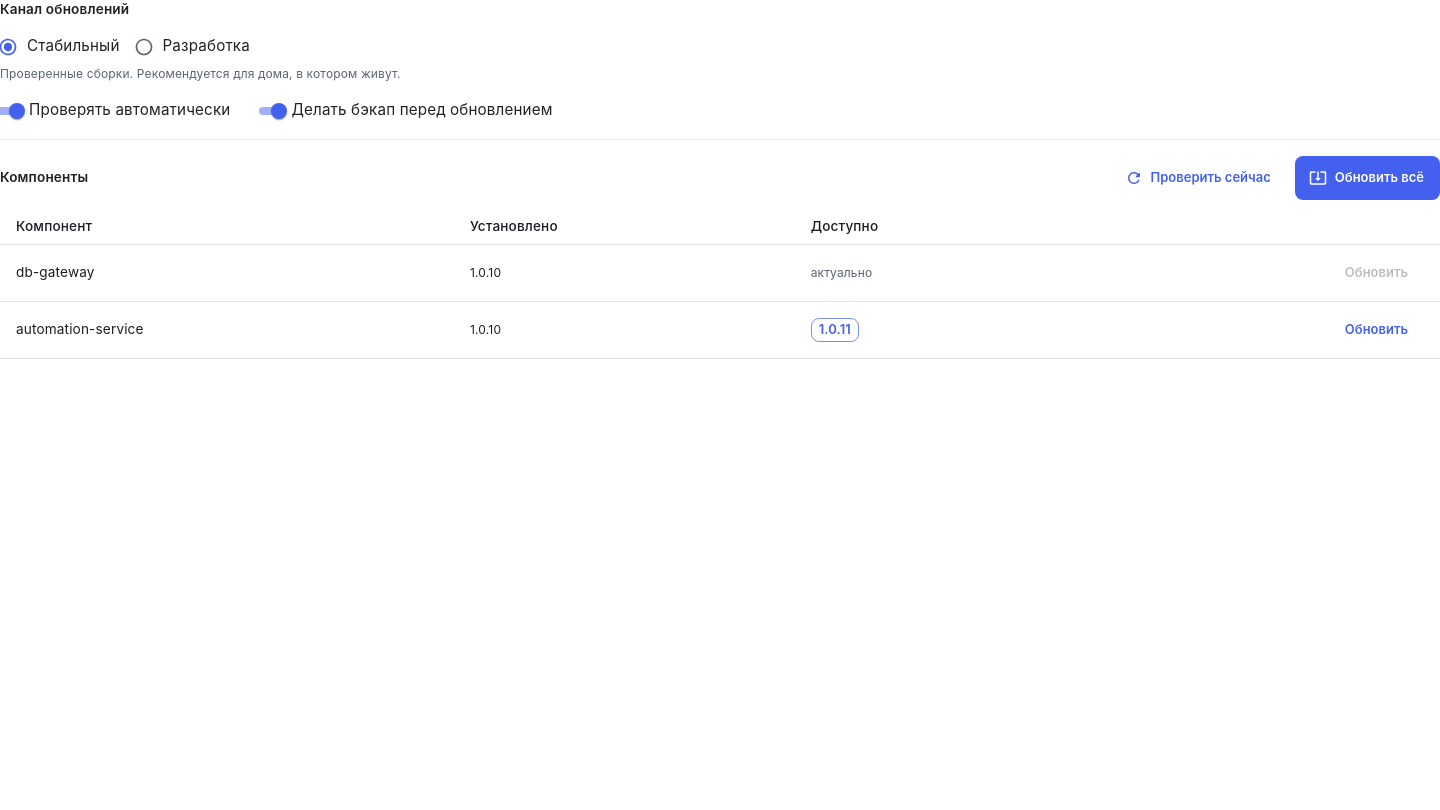
it: UpdatesEditor › surfaces a refusal with the conflicting pair and blocks applying
Expected: the text "automation-service" is shown, [0,301,454,358]
Step 1. Click the button "Обновить" in the row of "automation-service" → [1376, 330], box [1329,308,1424,352]
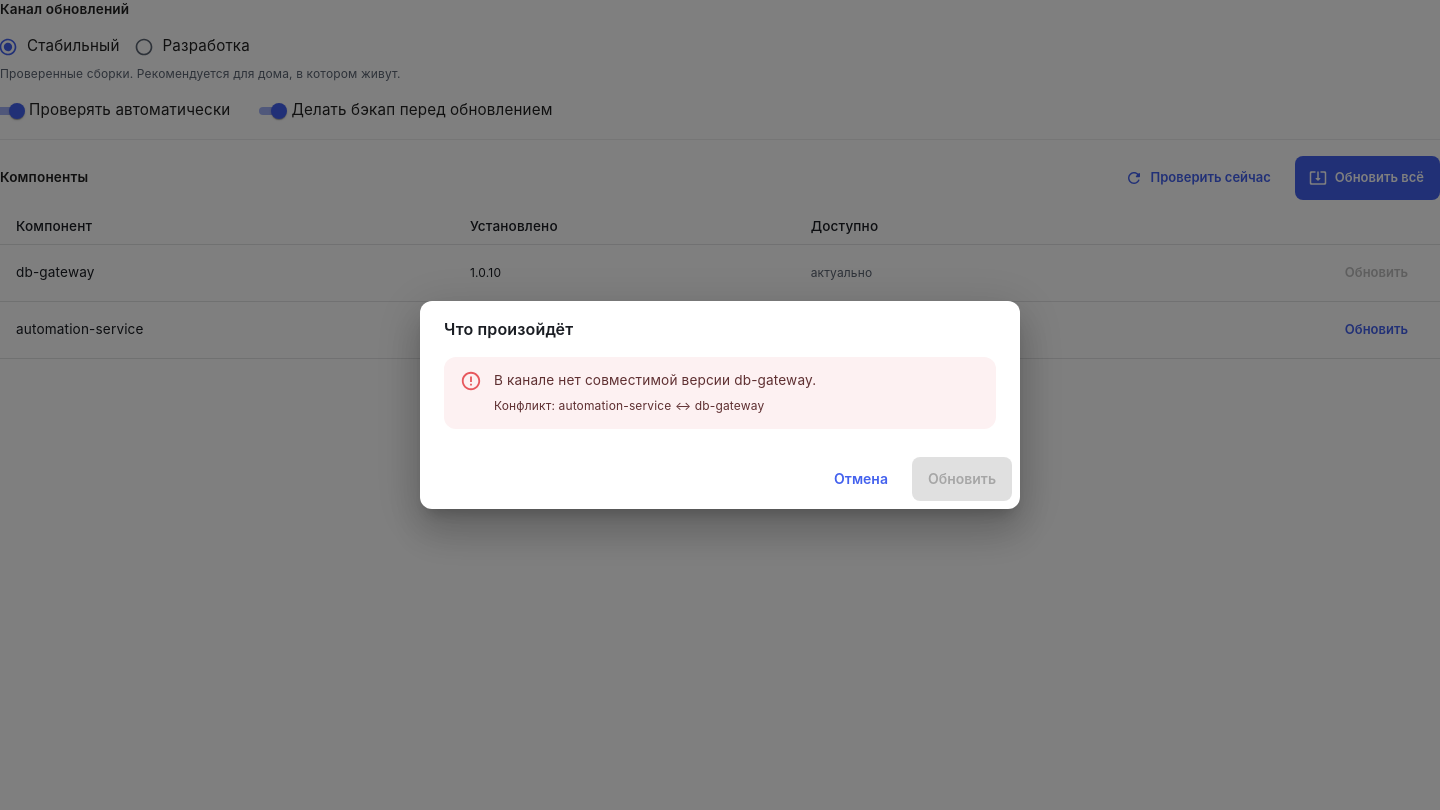
Expected: the text "В канале нет совместимой версии db-gateway." is shown, [494,371,816,390]
Expected: the text "Конфликт: automation-service ↔ db-gateway" is shown, [494,398,764,414]
